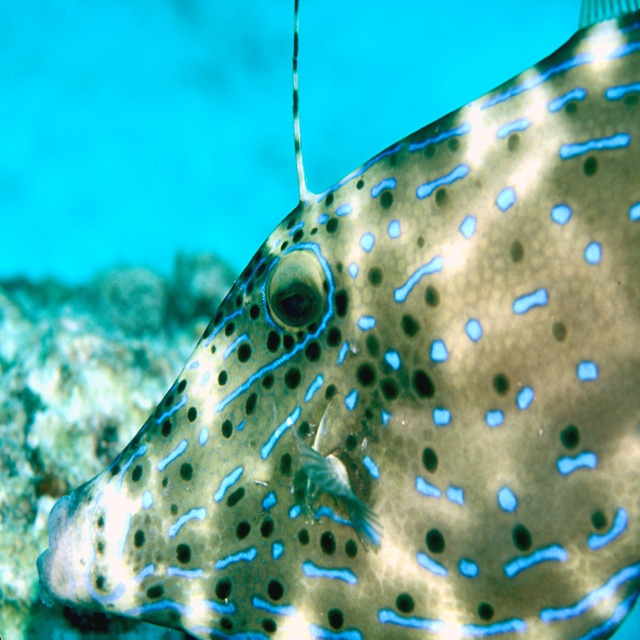Fish: (25, 16, 634, 640)
